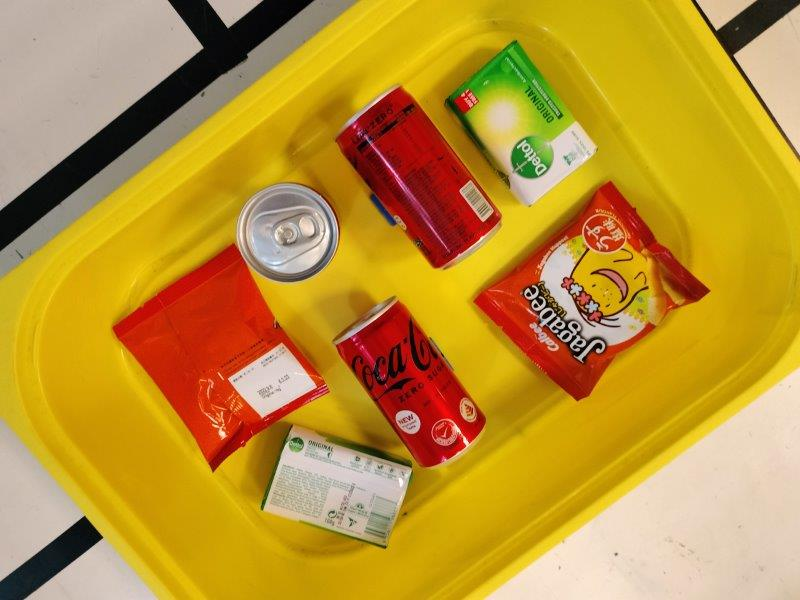Coke: (335, 84, 501, 271), (335, 296, 487, 468), (235, 180, 340, 280)
Dettol: (446, 41, 598, 207), (262, 424, 413, 549)
Jagabee: (472, 181, 713, 400), (112, 244, 330, 473)
